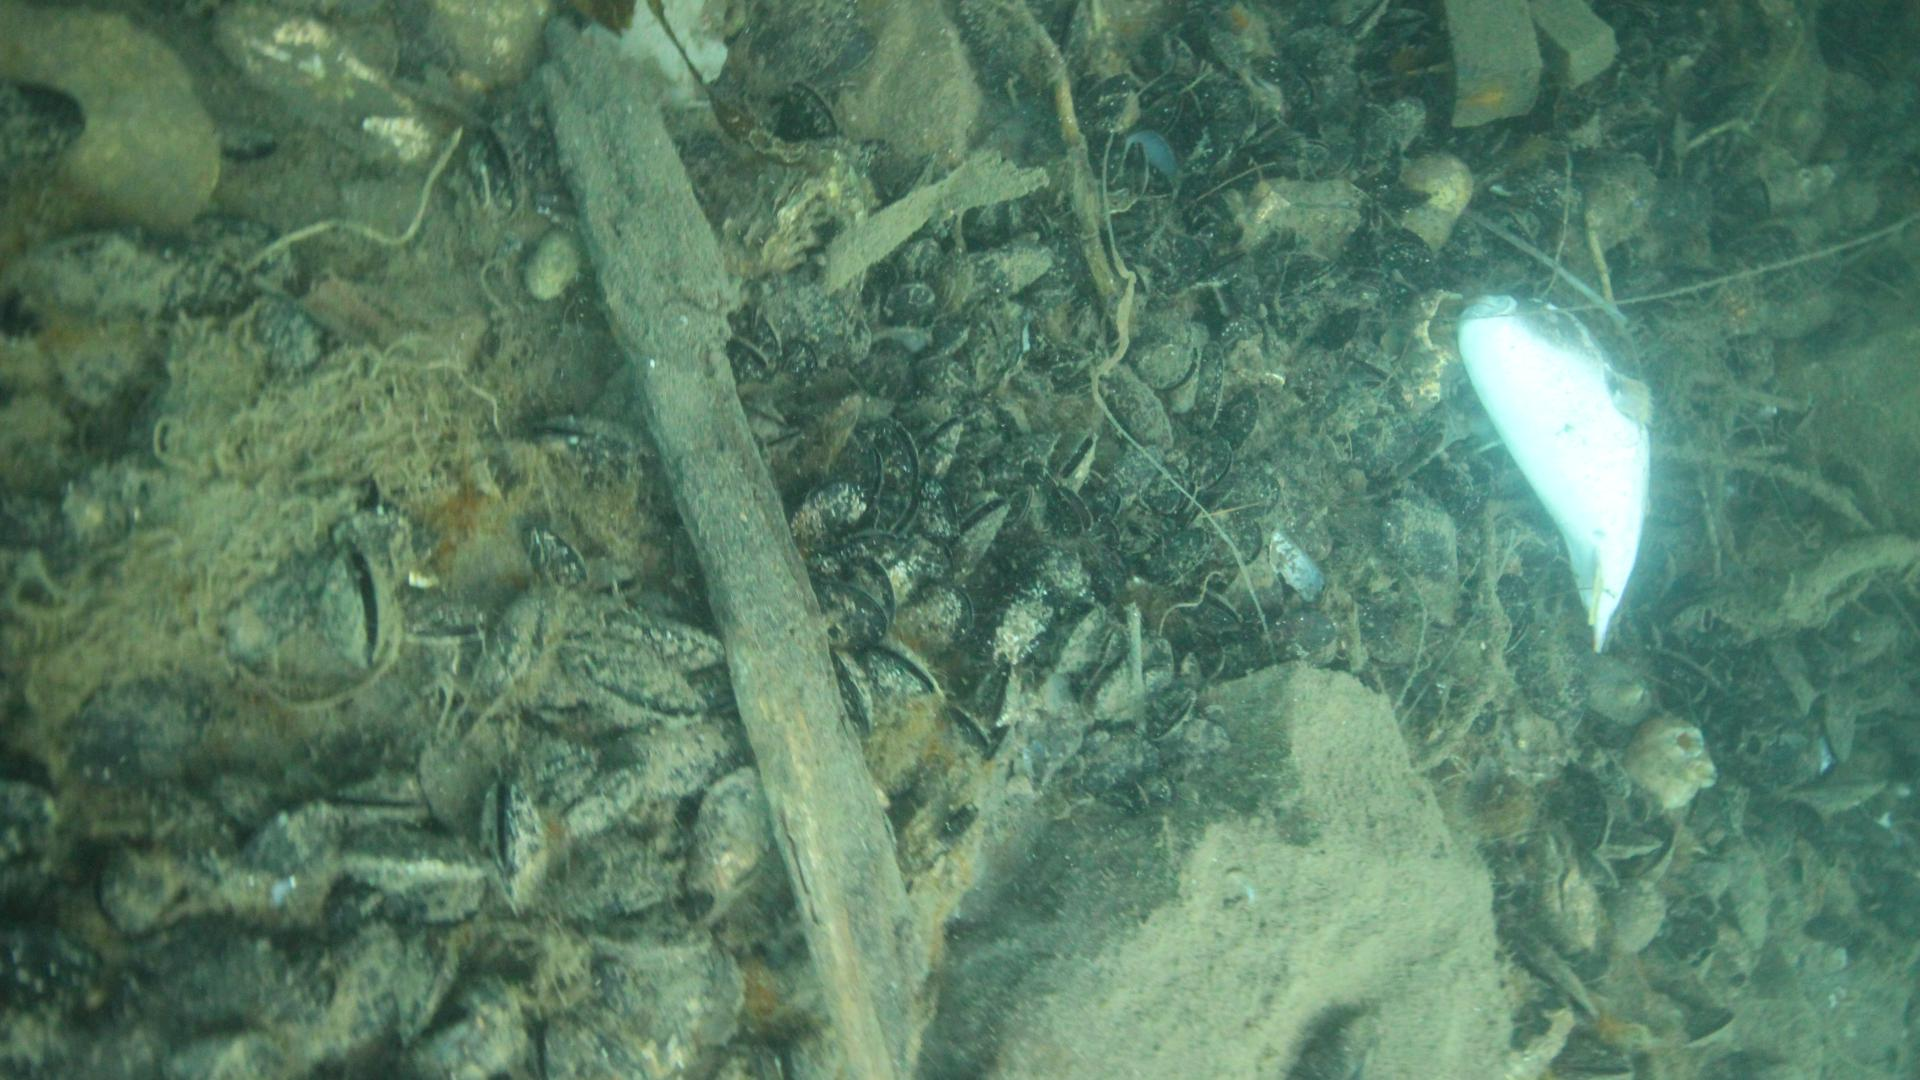wood: (534, 15, 939, 1080)
